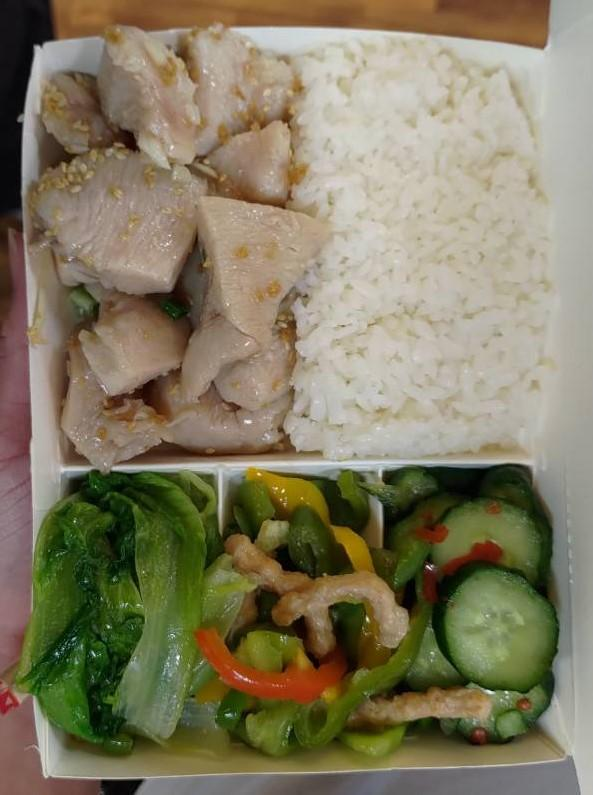big grilled chicken leg: (10, 7, 593, 795)
big herbal chicken leg: (302, 39, 559, 456)
braised fish fillet: (27, 462, 230, 758), (217, 465, 415, 755), (400, 465, 563, 754)
braised pork: (37, 22, 309, 461)
